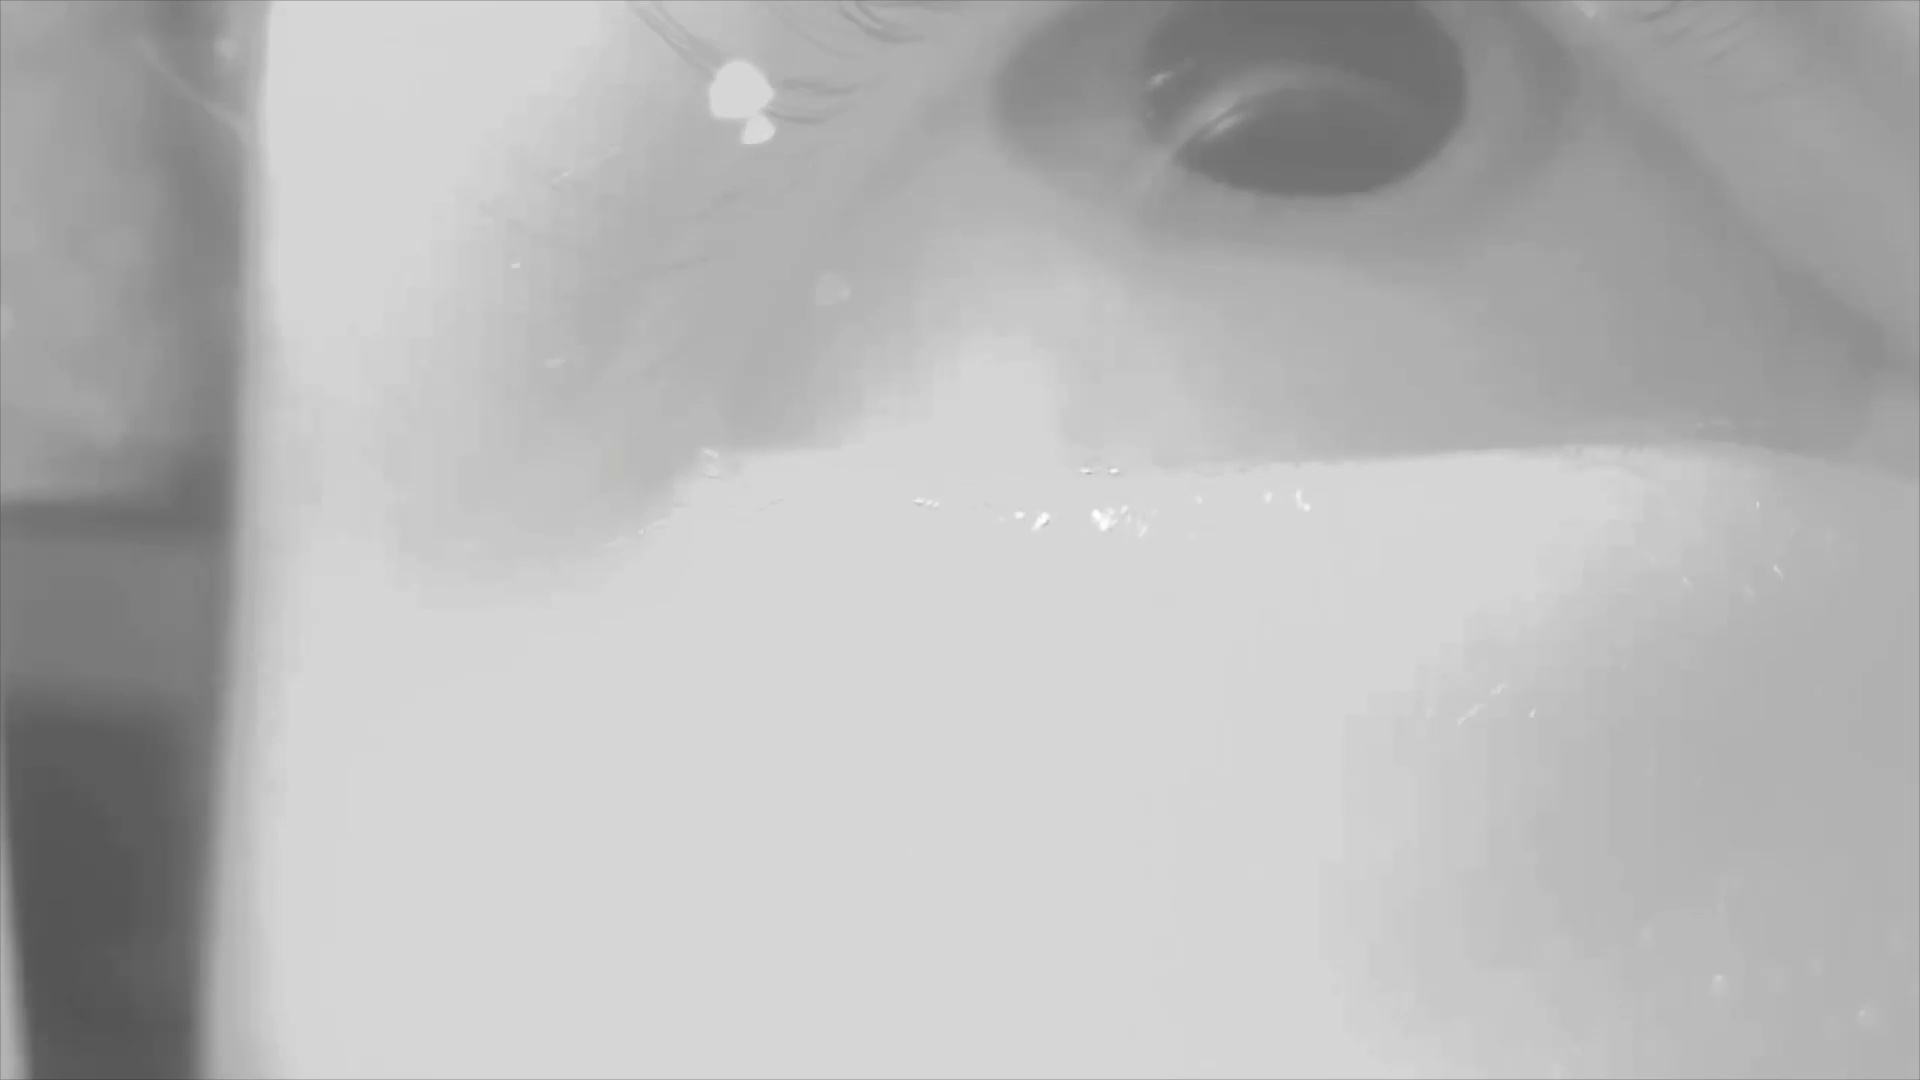pupil: (1139, 3, 1471, 196)
